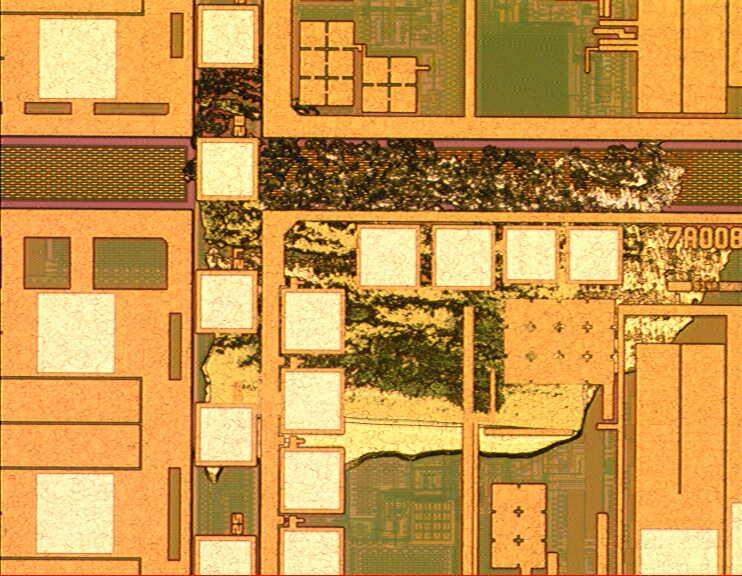BLOCK ETCH: (166, 50, 740, 490)
